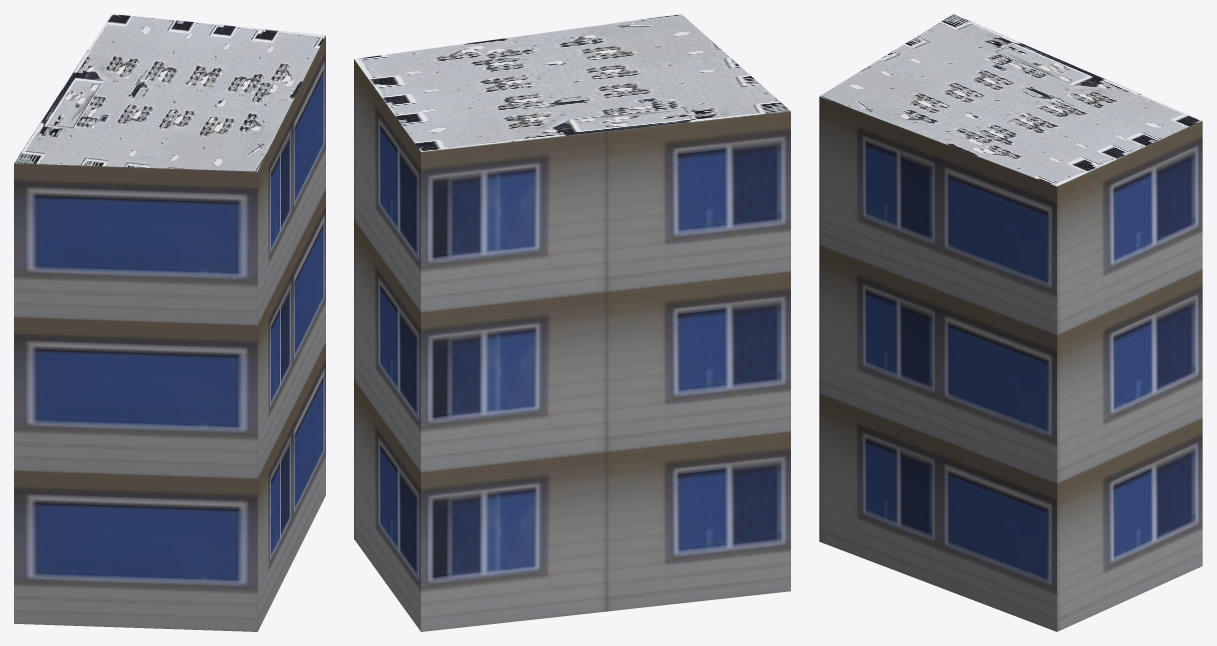
The model's file is ResTex__4087.fbx.
The picture shows the model from 3 angles, left to right: view 1: azimuth 30°, elevation 25°; view 2: azimuth 150°, elevation 25°; view 3: azimuth 270°, elevation 25°; orthographic projection. The views are drawn at different scales.
Parts seen in each view (by area): view 1: CityEngineMaterial_23_m, CityEngineMaterial_4_m; view 2: CityEngineMaterial_23_m, CityEngineMaterial_4_m; view 3: CityEngineMaterial_23_m, CityEngineMaterial_4_m.
Boxes of the visible parts, x1=… form: CityEngineMaterial_23_m: x1=14, y1=35, x2=325, y2=631; CityEngineMaterial_4_m: x1=14, y1=14, x2=325, y2=171; CityEngineMaterial_23_m: x1=354, y1=59, x2=790, y2=631; CityEngineMaterial_4_m: x1=354, y1=14, x2=790, y2=151; CityEngineMaterial_23_m: x1=819, y1=96, x2=1202, y2=631; CityEngineMaterial_4_m: x1=820, y1=14, x2=1201, y2=186.
Size of the model in its own units: 7.48 by 9 by 7.01.
Materials: 2 (2 with a texture image).
